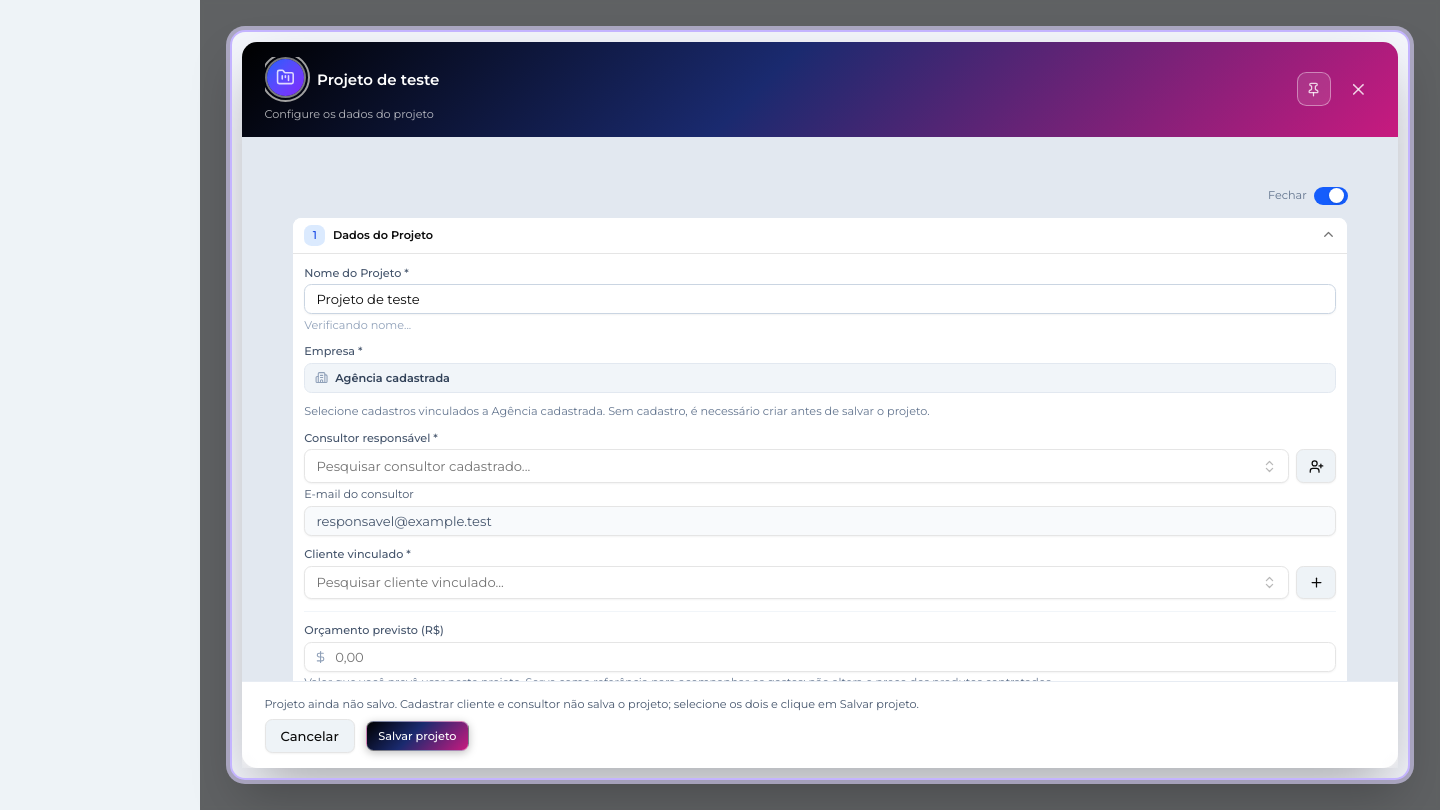
Test: Formulário REAL de projeto dentro do checkout › erro ao salvar conserva o formulário aberto e não retorna ID falso
Click the button "Salvar projeto".
click(417, 736)  # box [366,721,469,751]
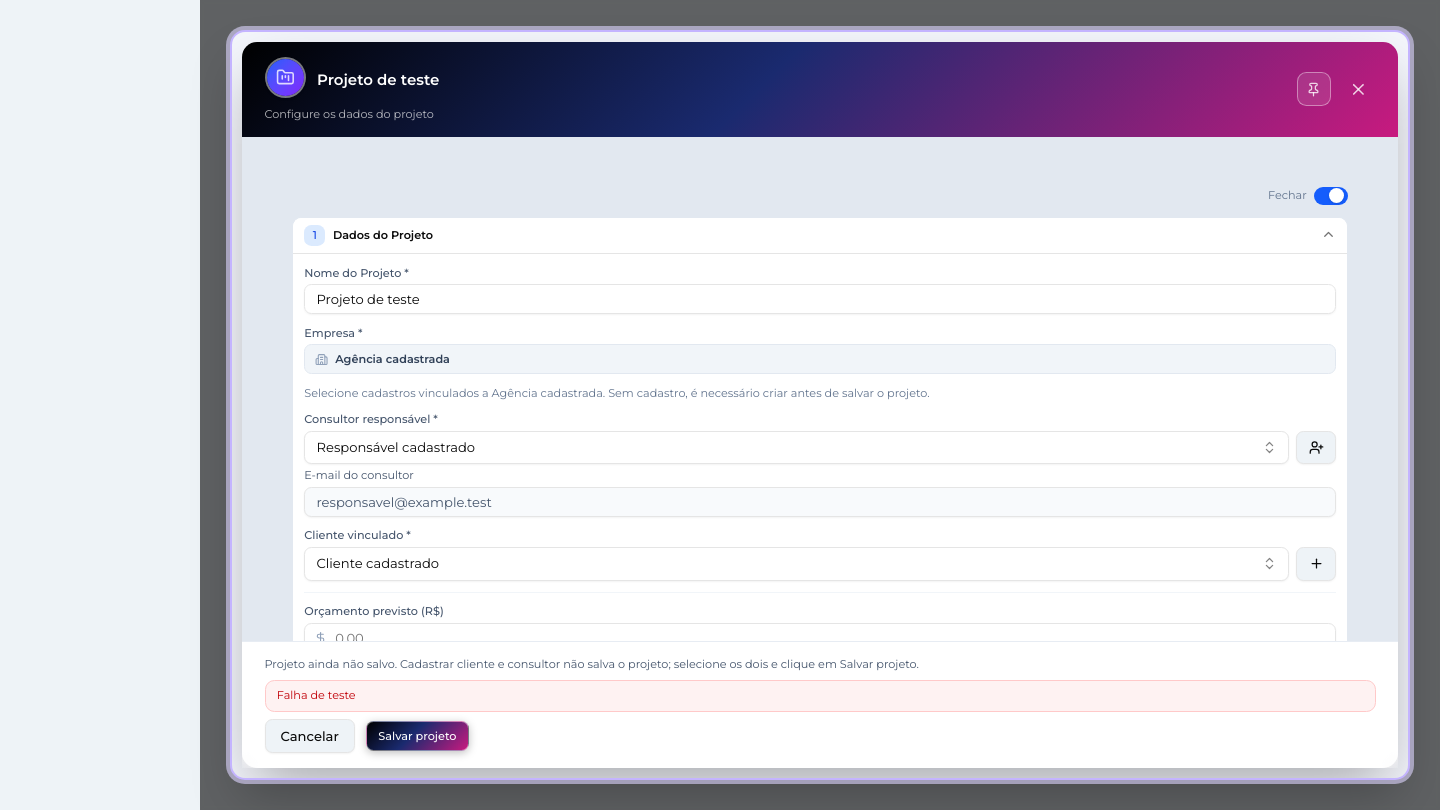
Expected: the field showing "Projeto de teste" is shown, [304,284,1336,314]
Now the message "Falha de teste" is shown, box [264,680,1376,712]
